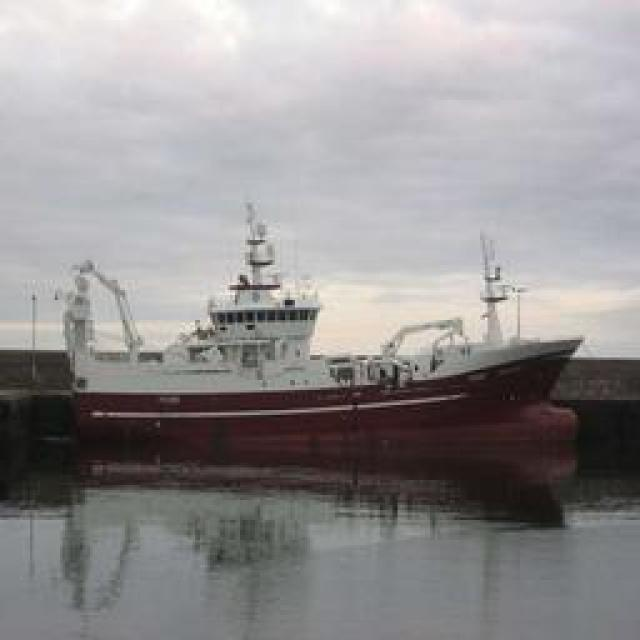CIV_Ship: (66, 200, 584, 445)
